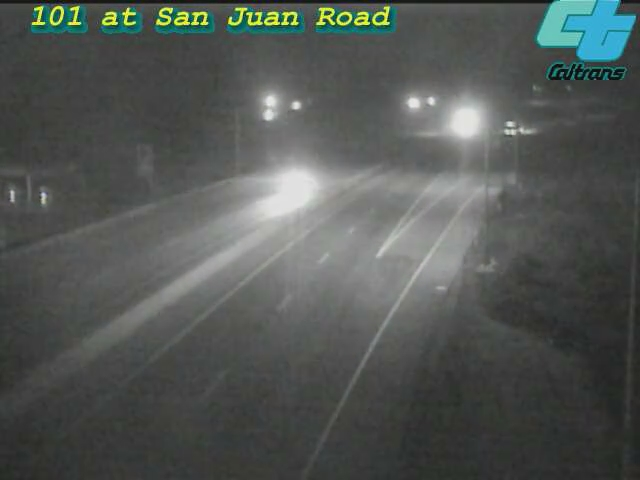vehicle: (249, 147, 329, 227), (440, 97, 490, 147), (490, 103, 540, 153)
